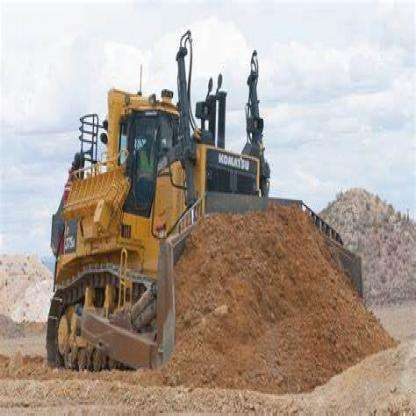bull_dozer/loader/grader: (40, 67, 375, 393)
